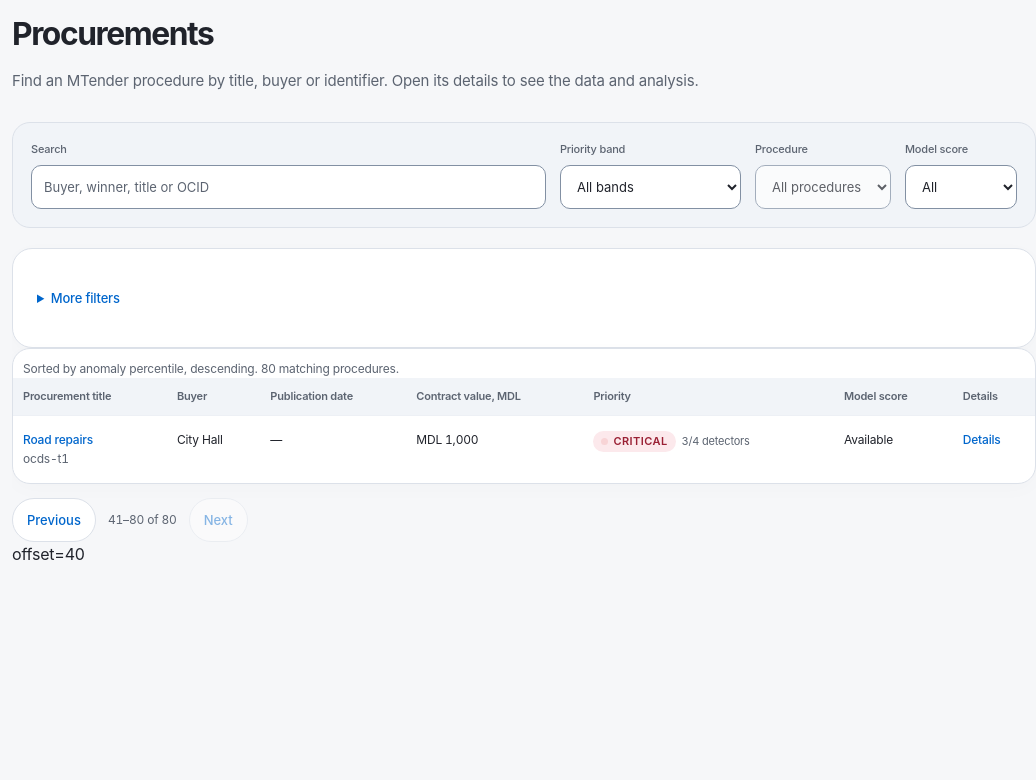
Test: Tenders URL state › clears the page offset whenever a filter changes
Expected: the text with test id "search" reads "offset=40", [12, 544, 85, 564]
Select "High (2 detectors)" in the dropdown labelled "Priority band" at point(650, 187), box [560, 165, 741, 209]
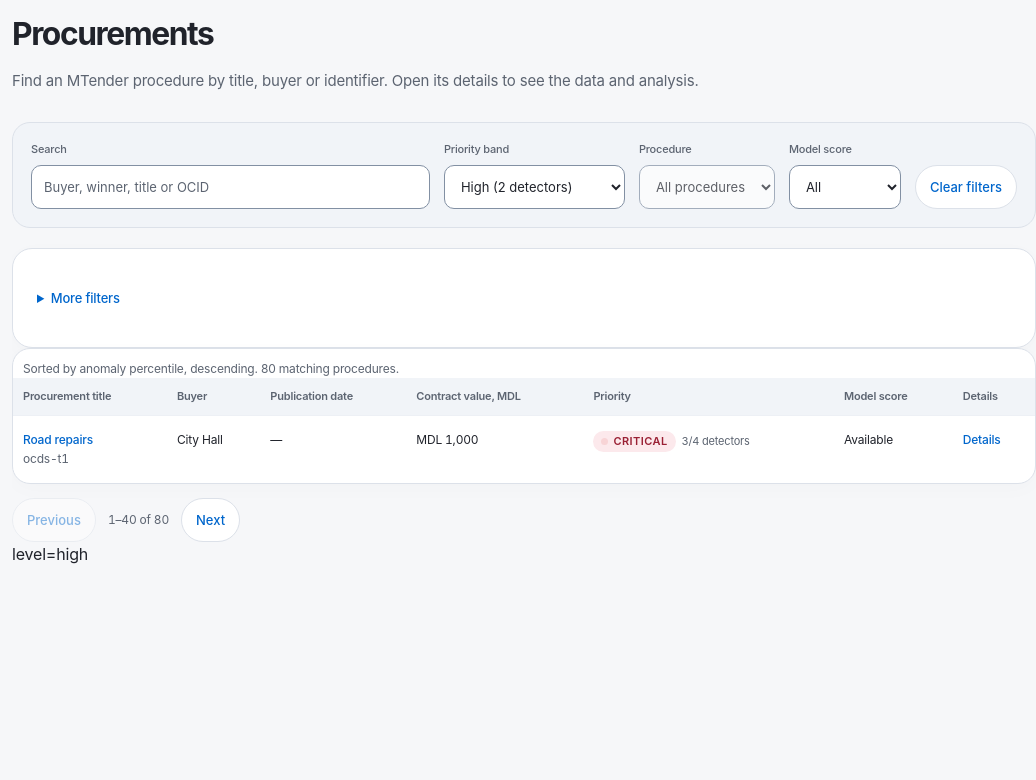
Now the text with test id "search" reads "level=high", box [12, 544, 88, 564]
Now the text with test id "search" no longer shows "offset="
